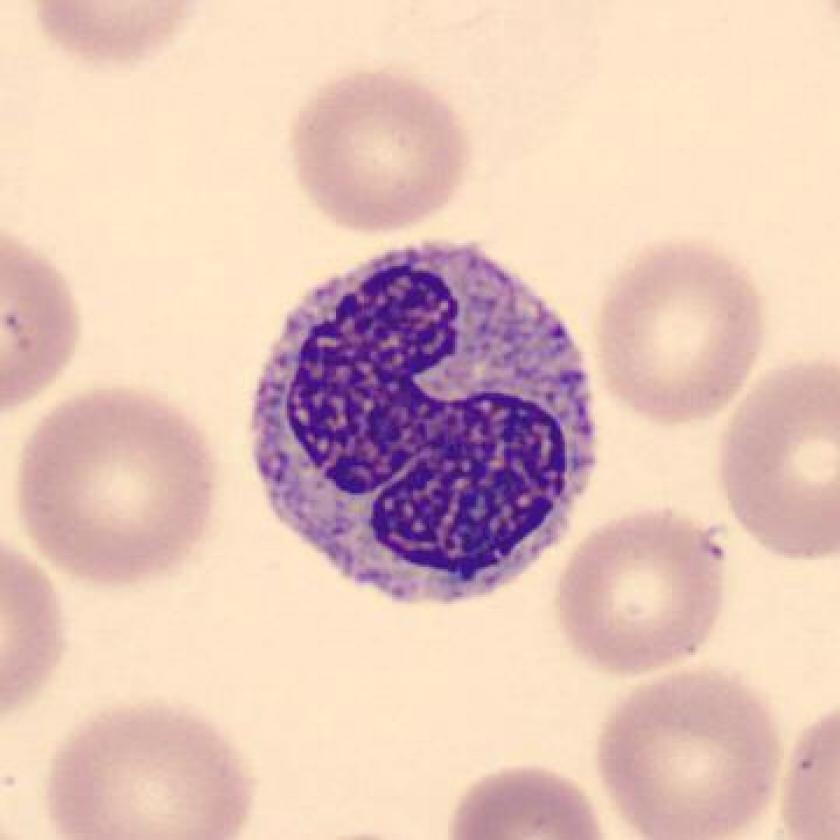monocyte: (232, 216, 615, 628)
